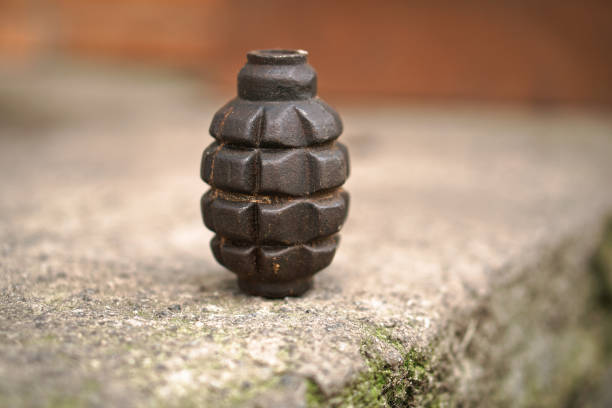e1: (201, 49, 352, 300)
